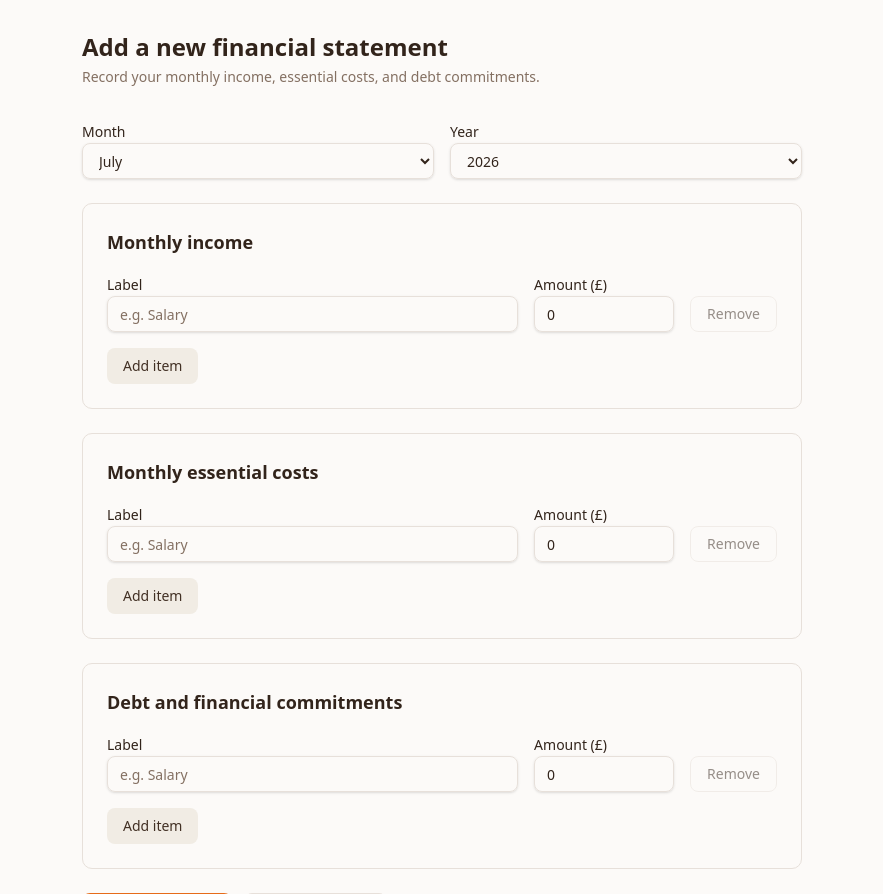
Test case: StatementNewPage › submits the statement and navigates to the detail page
Type "Salary" into the 1st field with placeholder "e.g. Salary" at point(313, 314), box [107, 296, 518, 332]
Type "2000" into the 1st number field with placeholder "0.00" at point(604, 314), box [534, 296, 674, 332]
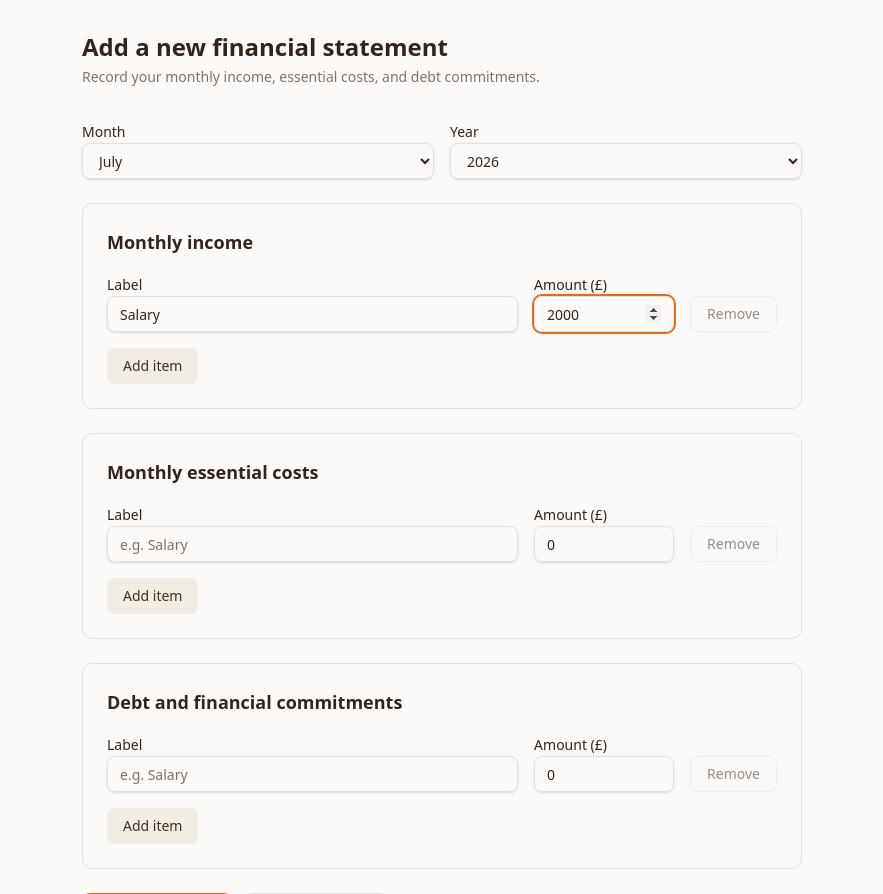
Type "Rent" into the field with placeholder "e.g. Salary" below "Monthly essential costs" at point(313, 544), box [107, 526, 518, 562]
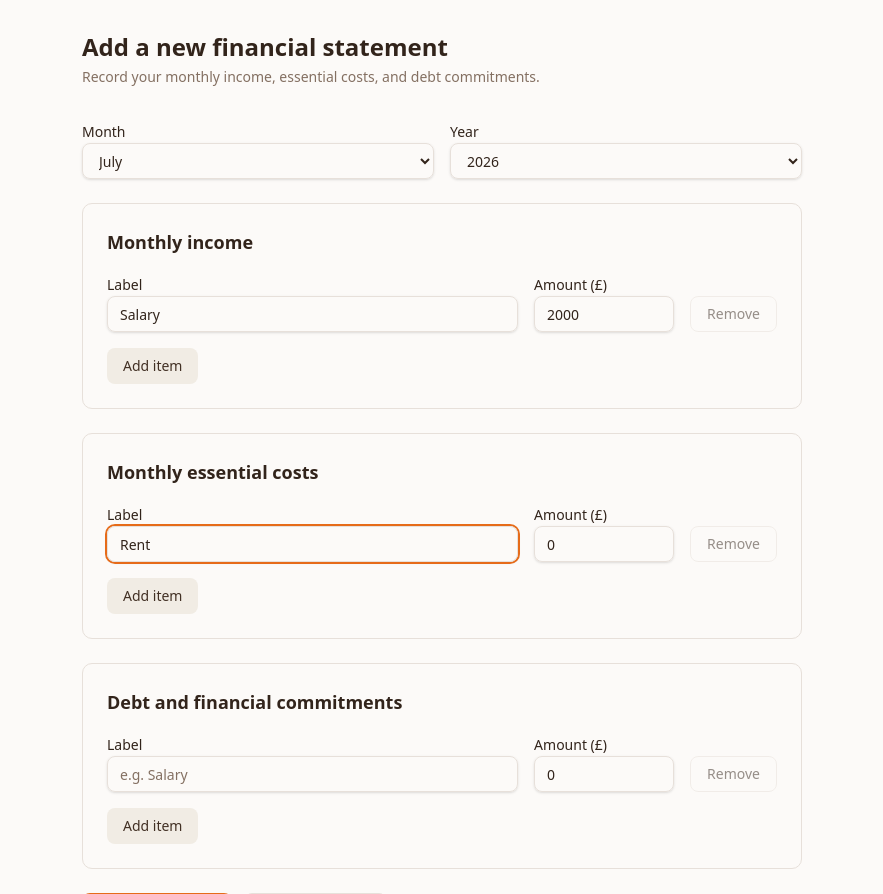
Type "800" into the number field with placeholder "0.00" below "Monthly essential costs" at point(604, 544), box [534, 526, 674, 562]
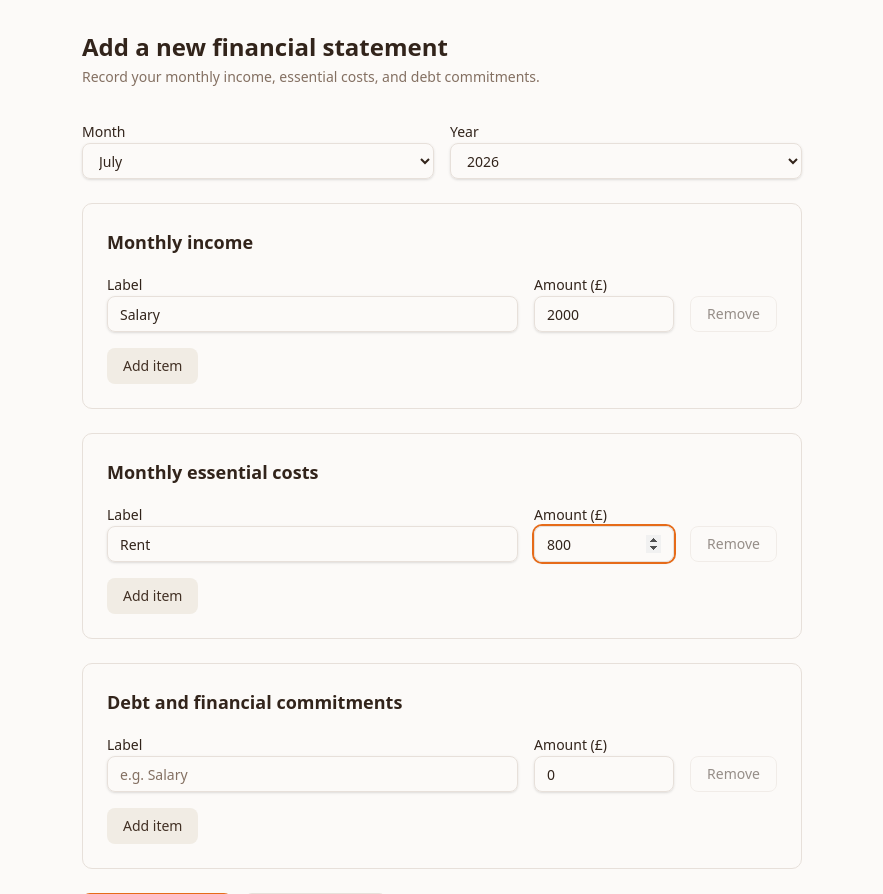
Type "Card" into the field with placeholder "e.g. Salary" below "Debt and financial commitments" at point(313, 774), box [107, 756, 518, 792]
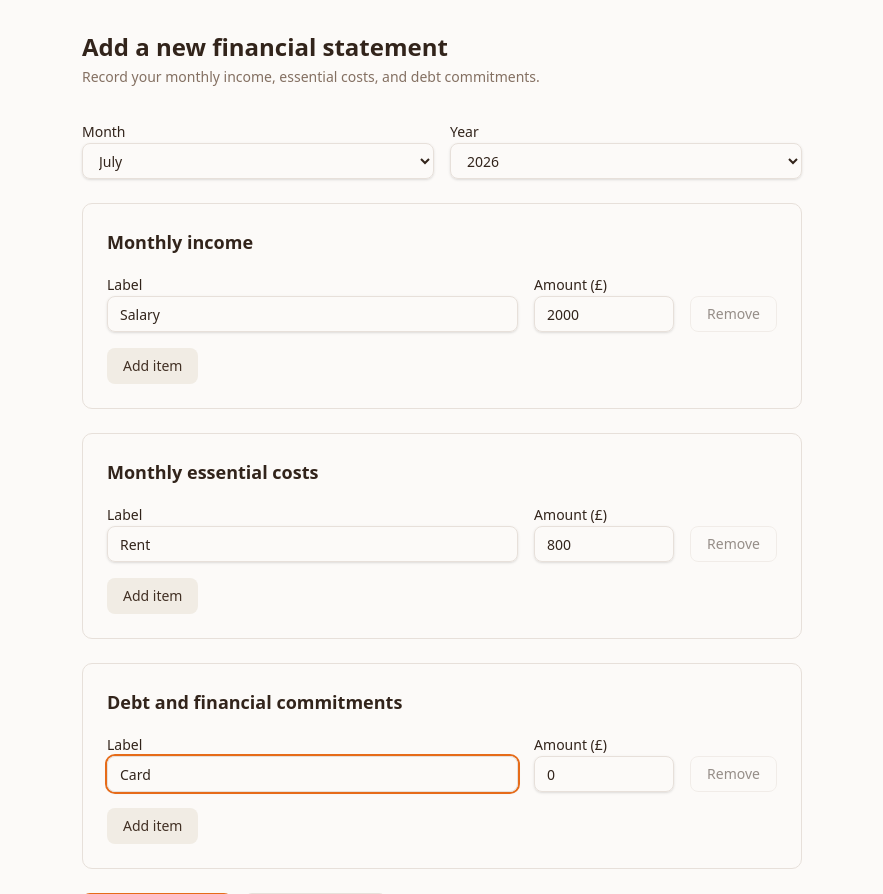
Type "100" into the number field with placeholder "0.00" below "Debt and financial commitments" at point(604, 774), box [534, 756, 674, 792]
(page scrolled)
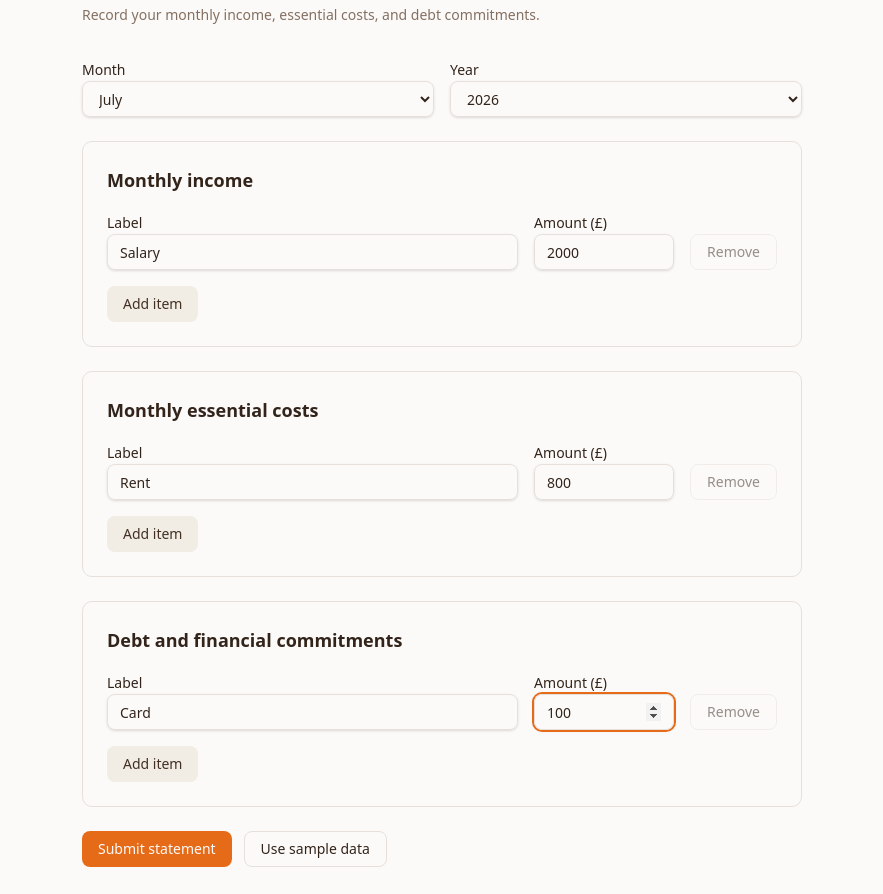
Click the button "Submit statement" at point(157, 849), box [82, 831, 232, 867]
(page scrolled)
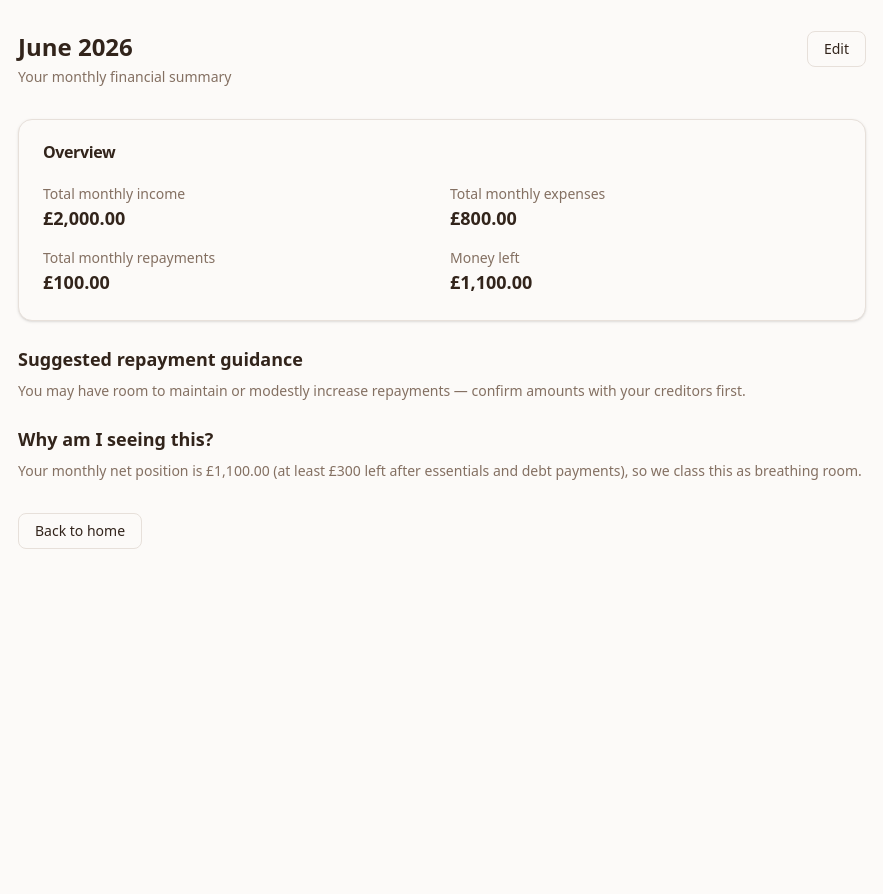
Now the heading "June 2026" is shown, box [18, 30, 133, 63]
